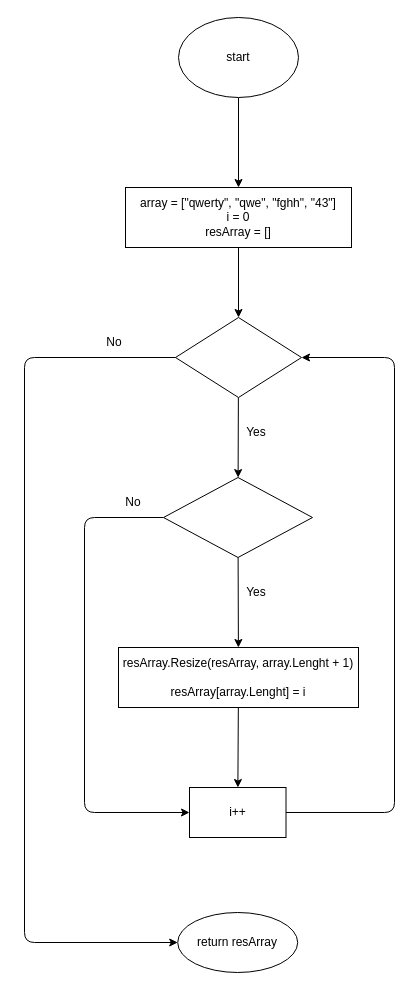
This 420x990 diagram has some shape labels left out. The centre of each missing label's shape, as x and y in pixels:
array[i].Lenght <= 3: the point at 237,517
i < array.Lenght: the point at 238,357
